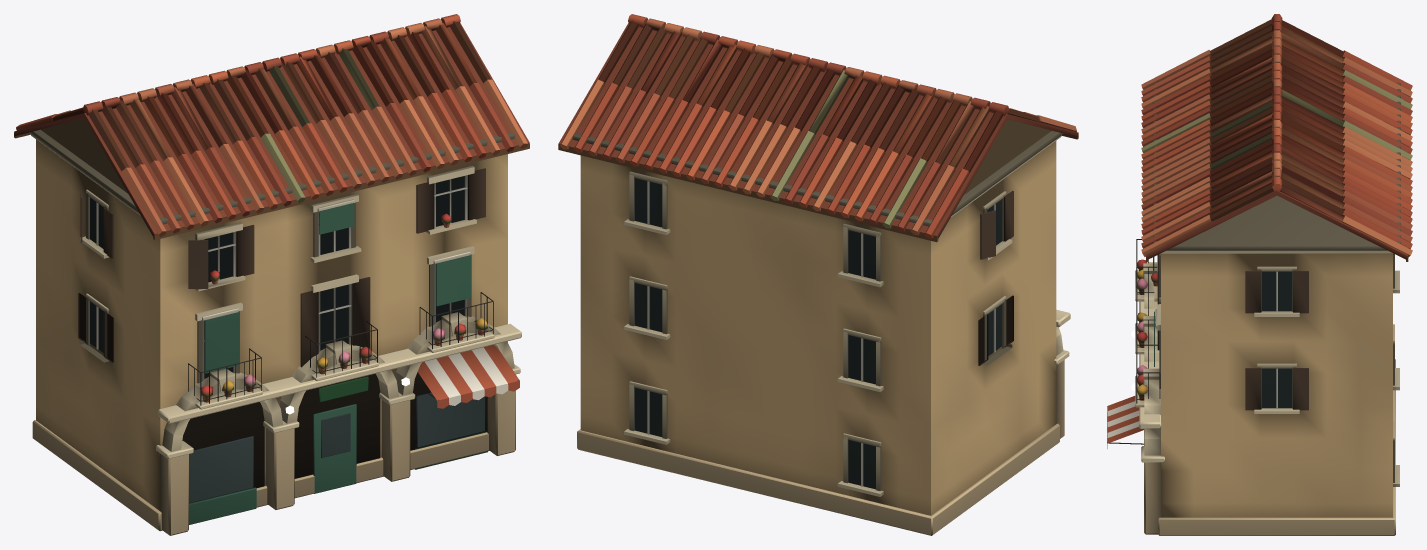
File: arcade_house.glb
The picture shows the model from 3 angles, left to right: view 1: azimuth 30°, elevation 25°; view 2: azimuth 150°, elevation 25°; view 3: azimuth 270°, elevation 25°; orthographic projection. The views are drawn at different scales.
Visible parts, largest first — view 1: arcade_house_mesh; view 2: arcade_house_mesh; view 3: arcade_house_mesh.
Part boxes in pixels (x1,y1,x2,y2): arcade_house_mesh: [14, 14, 529, 535]; arcade_house_mesh: [558, 14, 1078, 535]; arcade_house_mesh: [1107, 14, 1412, 535].
Size of the model in its own units: 11.34 by 11.04 by 8.56.
